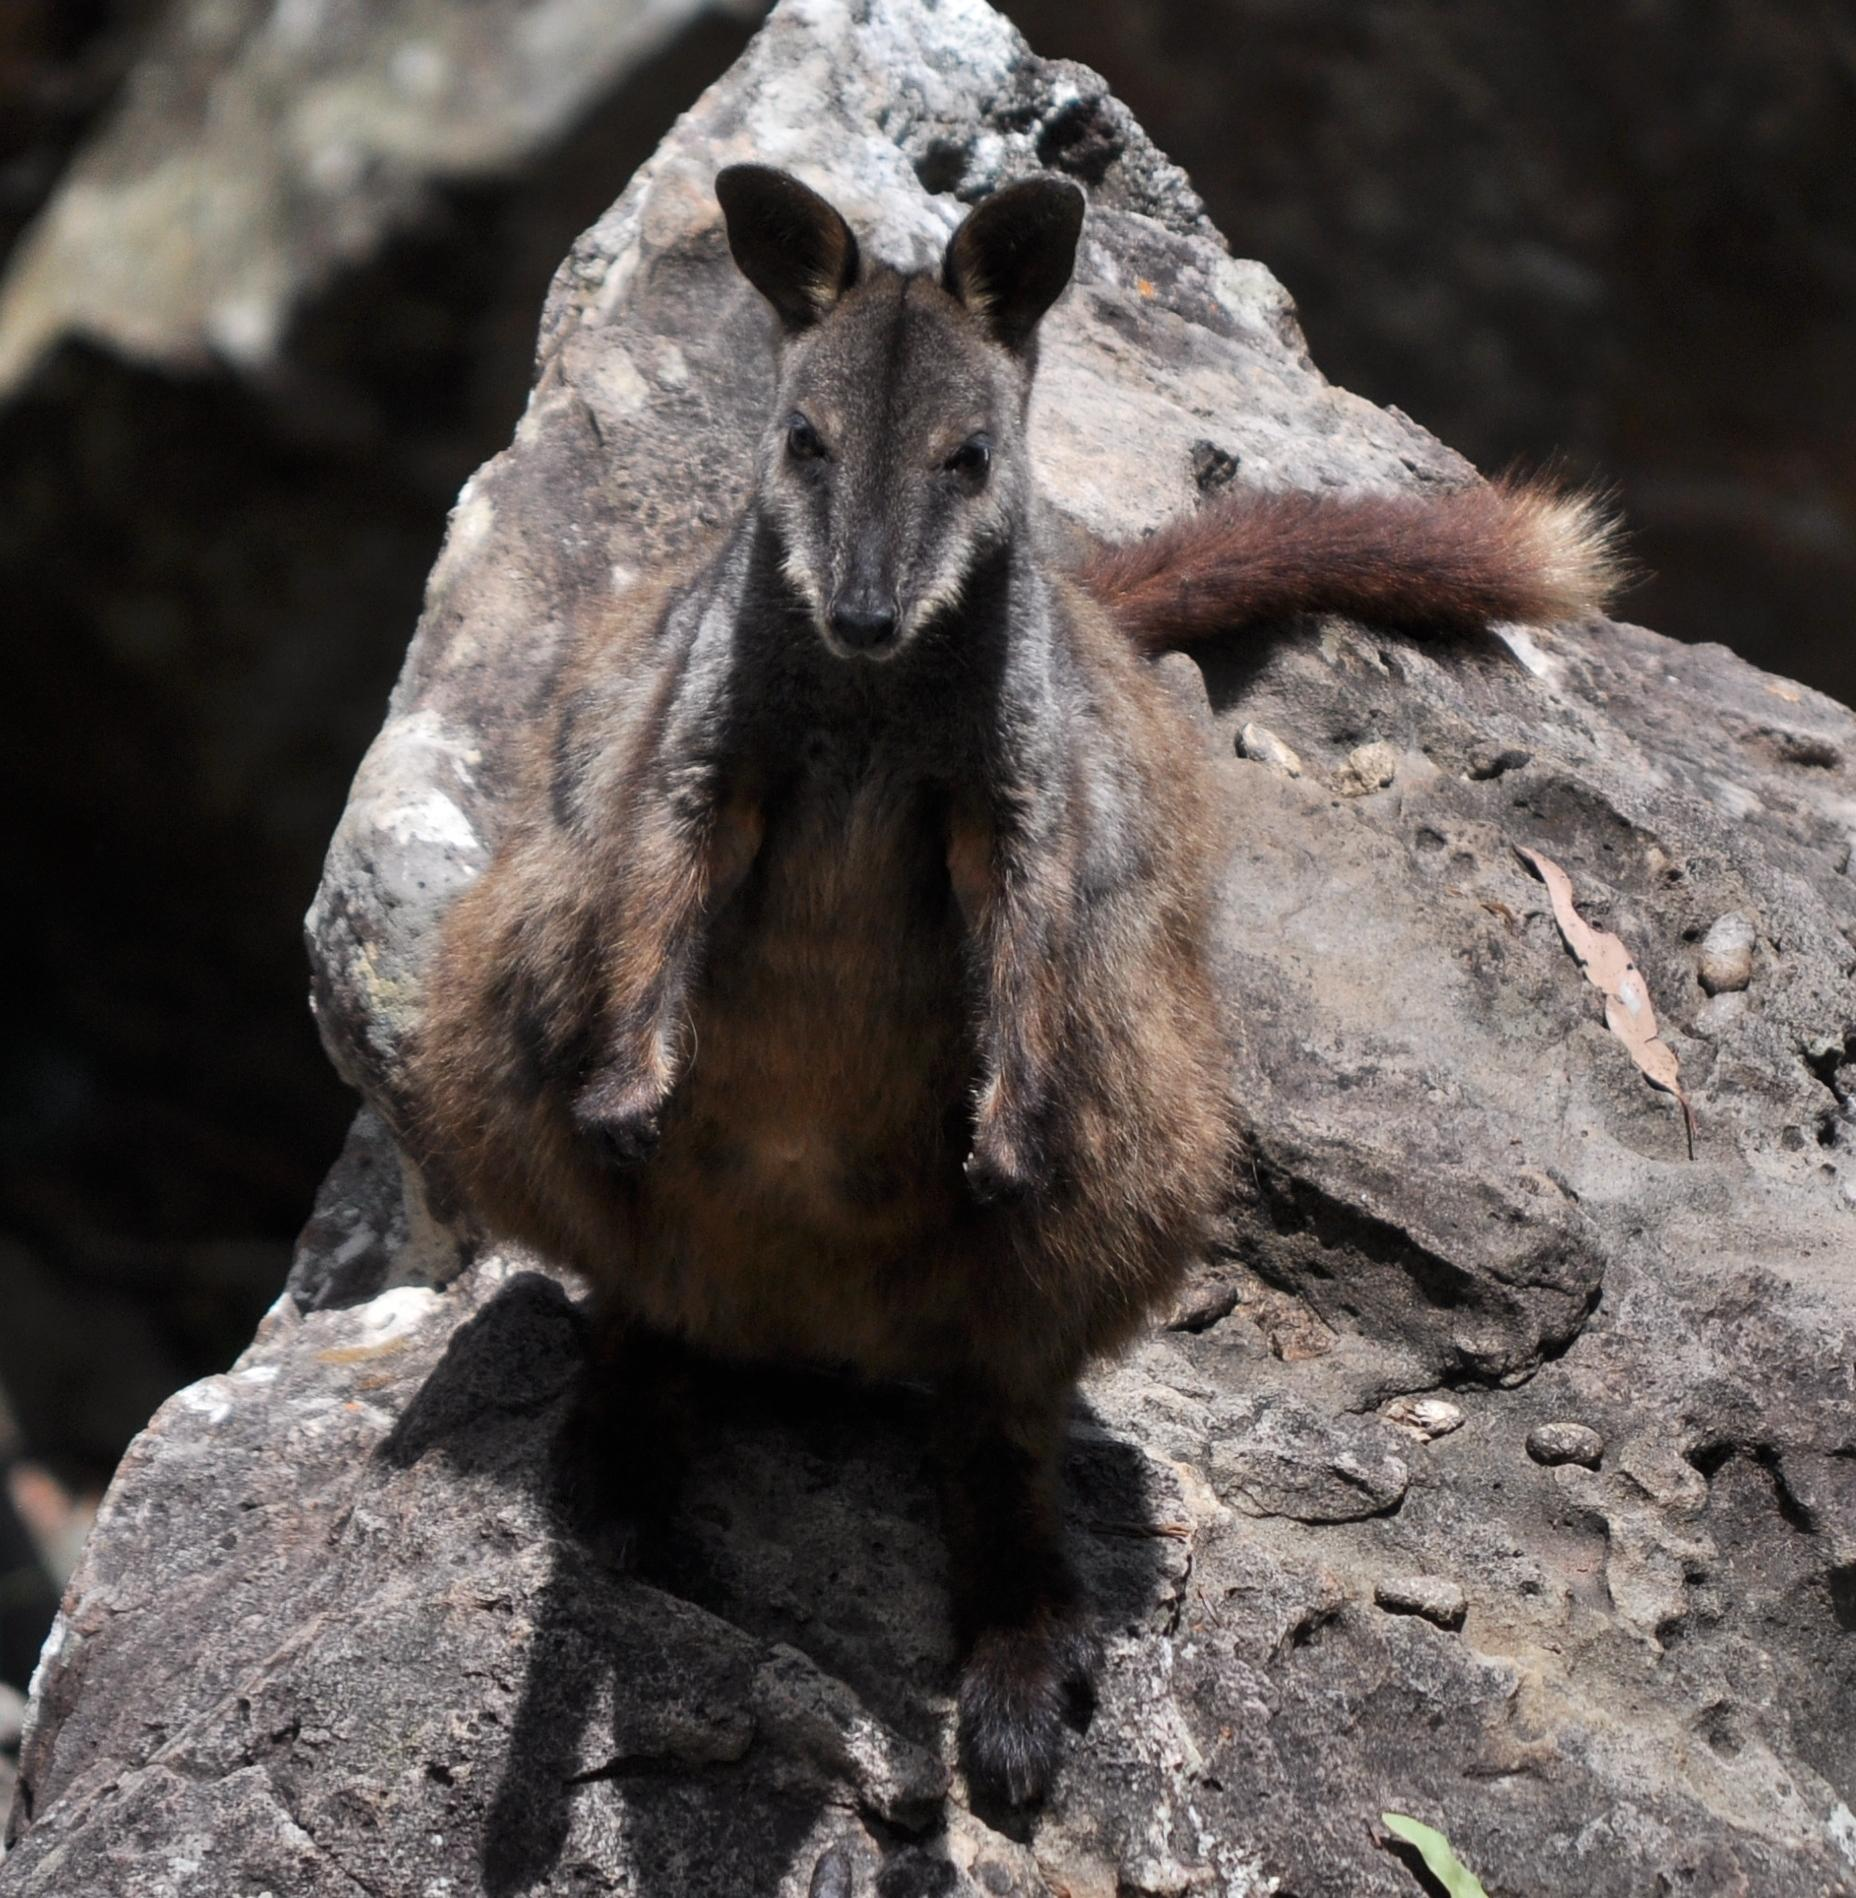Brush-tailed rock-wallaby: (233, 168, 1627, 1461)
